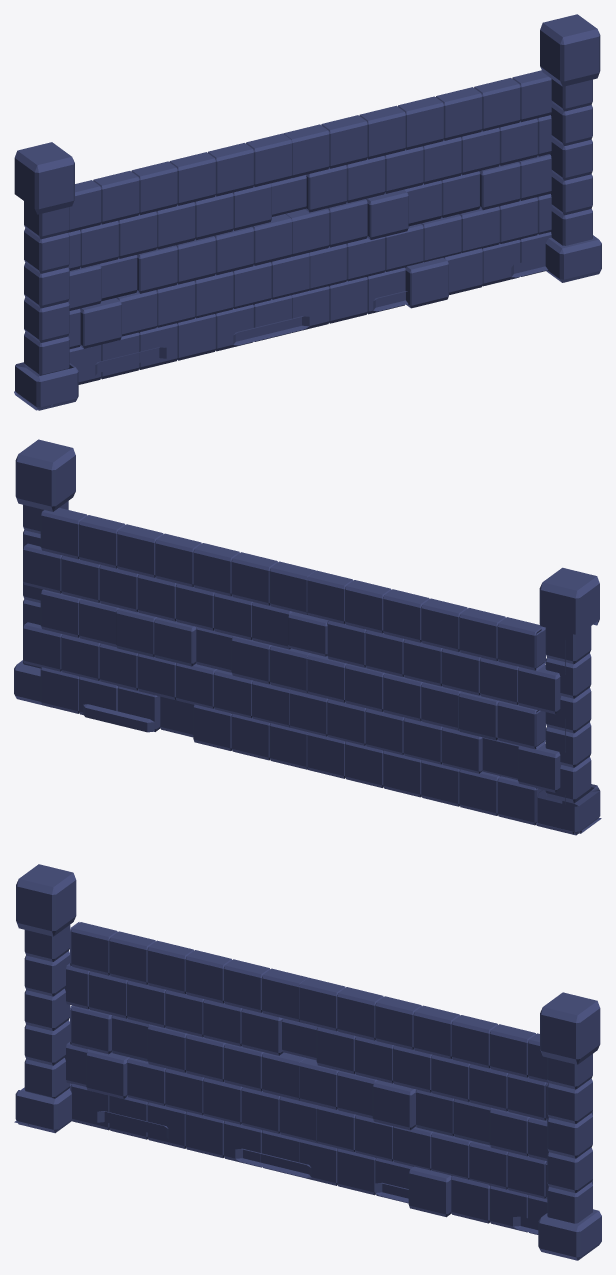
Rendered from stonewall.fbx.
3 renders of one model, top to bottom at view 1: azimuth 30°, elevation 25°; view 2: azimuth 150°, elevation 25°; view 3: azimuth 330°, elevation 25°, orthographic.
Visible parts, largest first — view 1: Dungeon_Level_GameLevelChallenge; view 2: Dungeon_Level_GameLevelChallenge; view 3: Dungeon_Level_GameLevelChallenge.
Part boxes in pixels (x1,y1,x2,y2): Dungeon_Level_GameLevelChallenge: (14,14,601,410); Dungeon_Level_GameLevelChallenge: (14,439,601,835); Dungeon_Level_GameLevelChallenge: (14,864,601,1260).
Bounding box in the file's own units: 43080 × 17768 × 4216.
